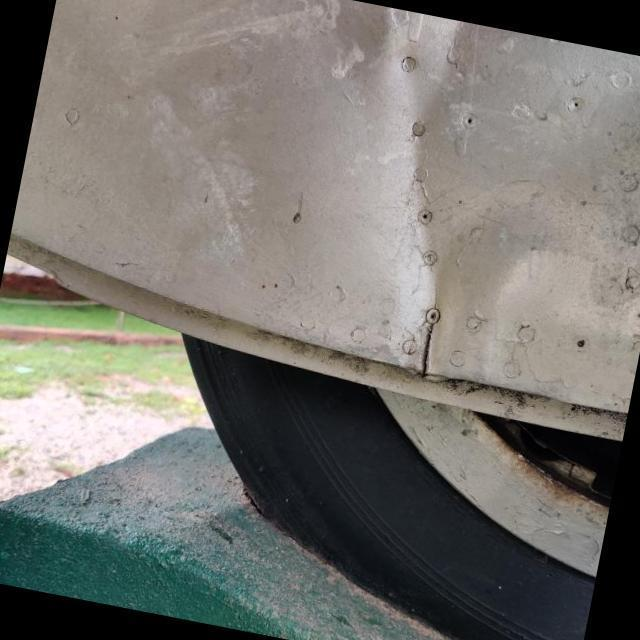Rupture: (398, 310, 459, 386)
